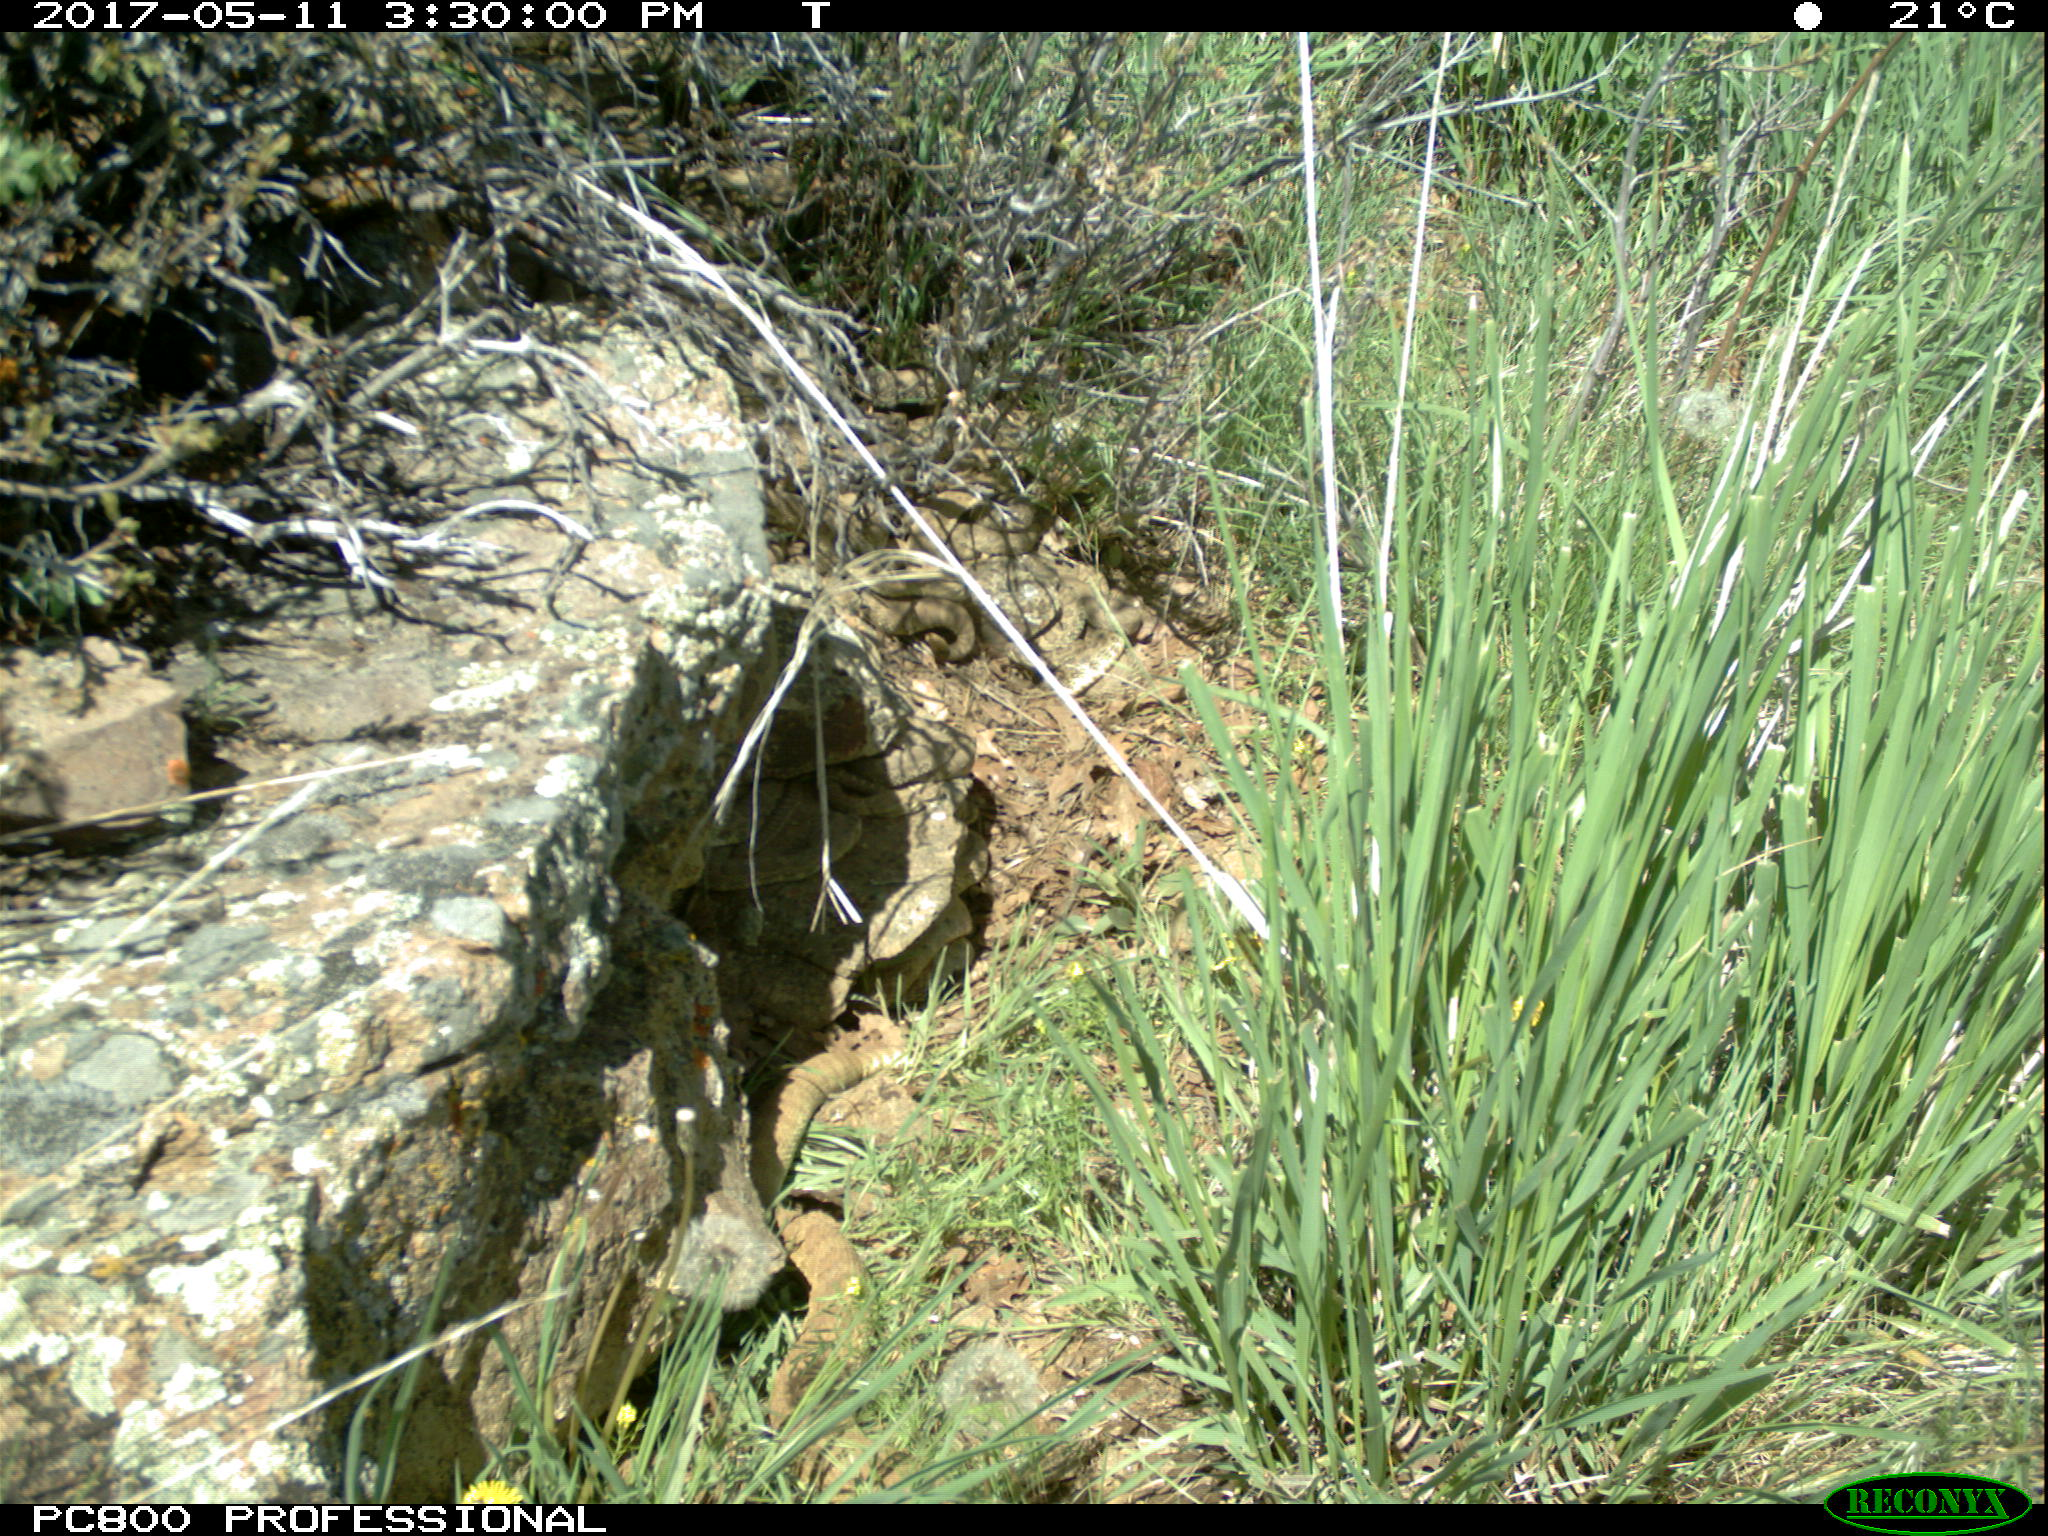snake: (911, 489, 1124, 686), (769, 1202, 871, 1489), (745, 1044, 919, 1196), (698, 774, 922, 892)
